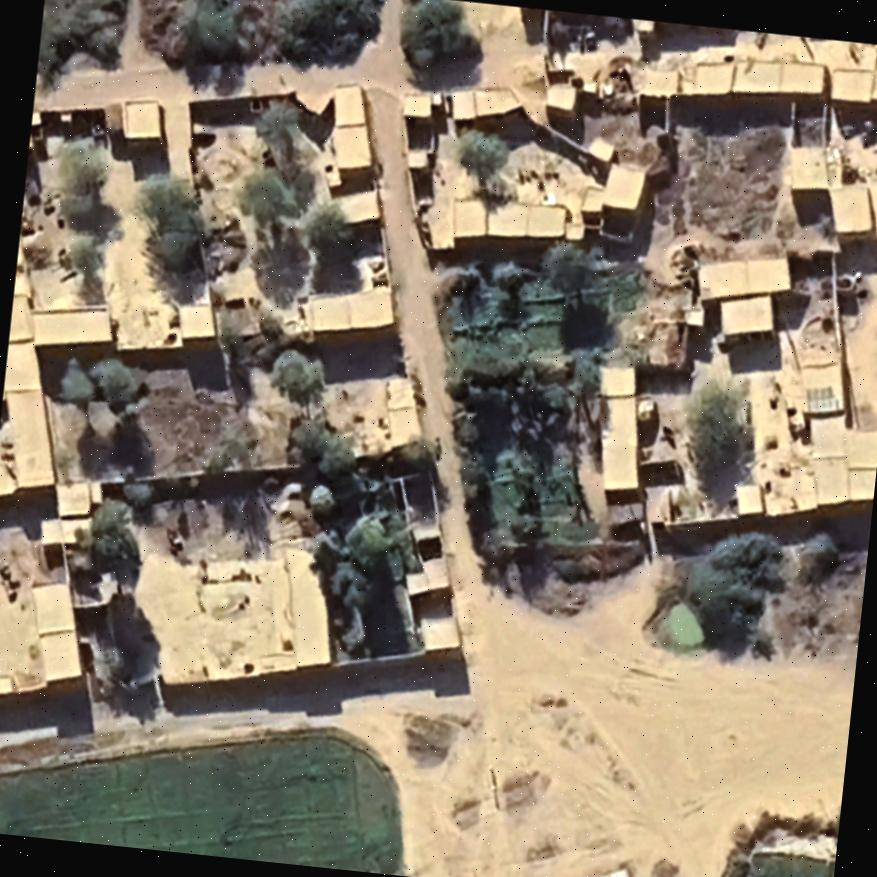Solarpanel: (800, 381, 843, 416)
